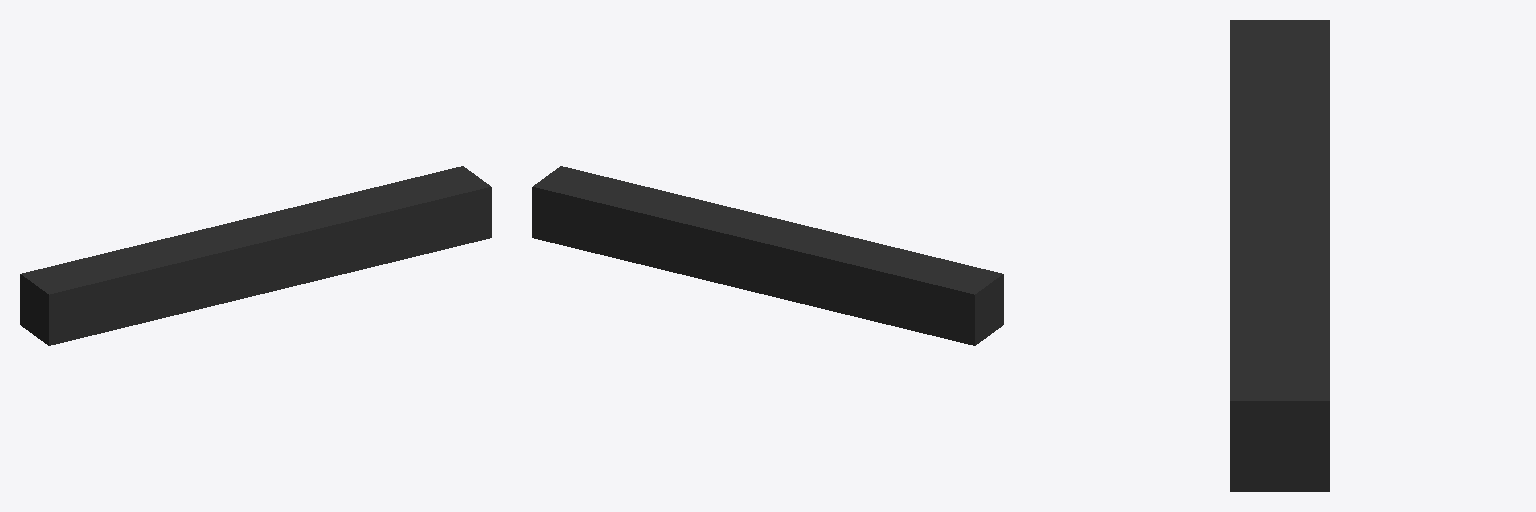
URDF robot description (wall):
<robot name="wall">
  <link name="baseLink">
   
    <inertial>
      <origin rpy="0 0 0" xyz="0 0 0" />
       <mass value="1000" />
       <inertia ixx="0" ixy="0" ixz="0" iyy="0" iyz="0" izz="0" />
    </inertial>
    <visual>
      <origin rpy="0 0 0" xyz="0 0 0" />
      <geometry>
			  <box size="9 1 1" />
      </geometry>
       <material name="grey">
        <color rgba="0.24 0.24 0.24 1" />
      </material>
    </visual>
    <collision>
      <origin rpy="0 0 0" xyz="0 0 0" />
      <geometry>
	 	      <box size="9 1 1" />
      </geometry>
    </collision>
  </link>
</robot>

--- Render facts (derived) ---
The picture shows the robot from 3 angles, left to right: view 1: azimuth 30°, elevation 25°; view 2: azimuth 150°, elevation 25°; view 3: azimuth 270°, elevation 25°; orthographic projection.
Model wall with 1 links and 0 joints (none), rooted at baseLink, posed every joint at zero.
Links seen in each view (by area): view 1: baseLink; view 2: baseLink; view 3: baseLink.
Link boxes in pixels (left/top/right/bottom): baseLink: left=20, top=166, right=491, bottom=345; baseLink: left=532, top=166, right=1003, bottom=345; baseLink: left=1230, top=20, right=1329, bottom=491.
Size in the robot's own frame: 9 by 1 by 1 metres.
Geometry: primitives only (box / cylinder / sphere), no mesh files.
